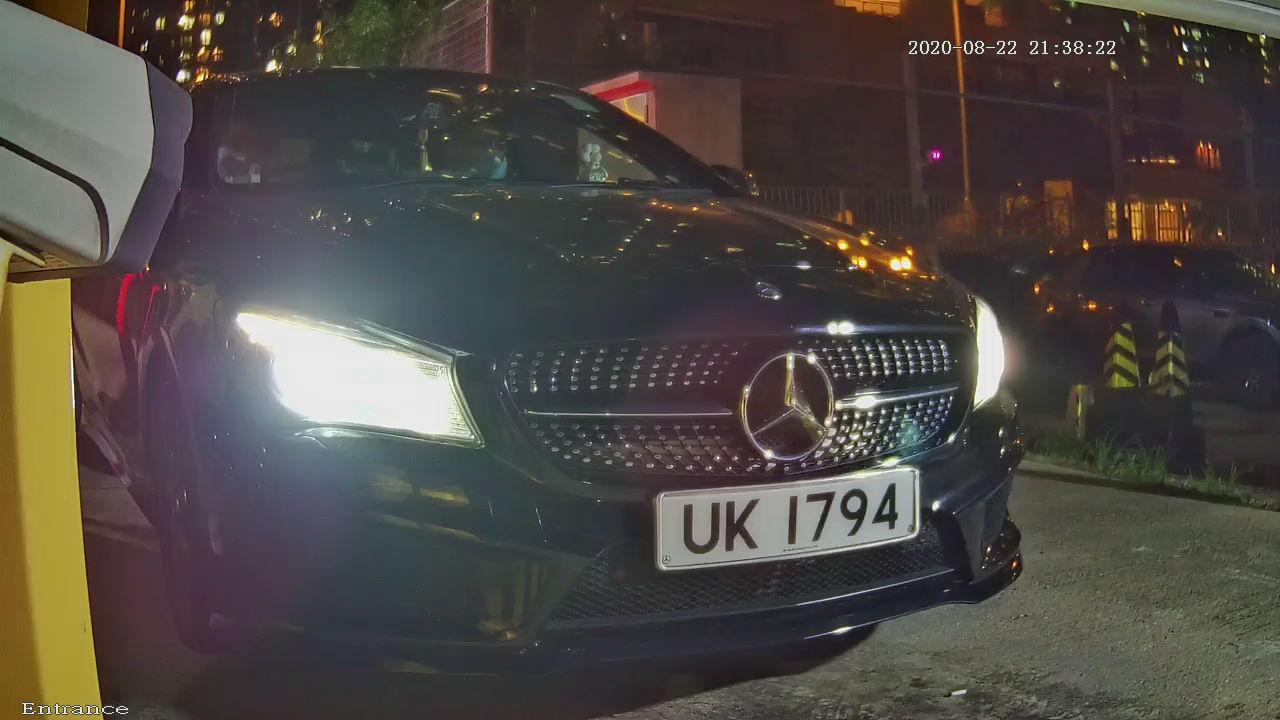Car: (29, 4, 1132, 701)
License Plate: (579, 422, 939, 630)
